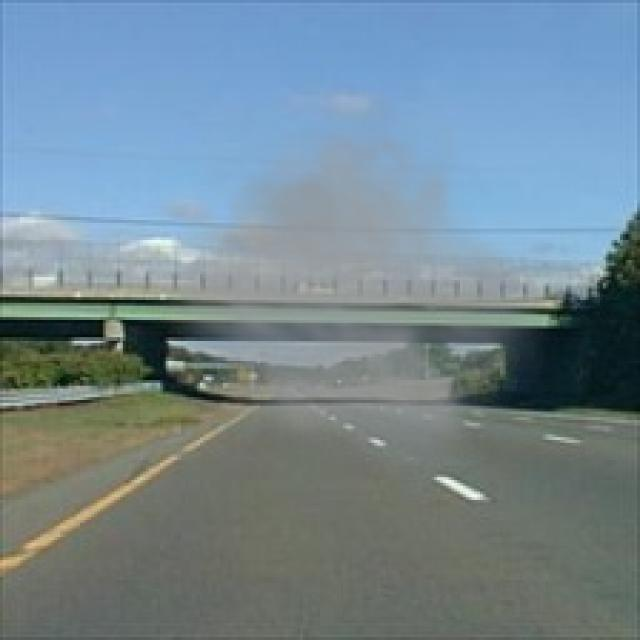smoke: (146, 88, 560, 466)
